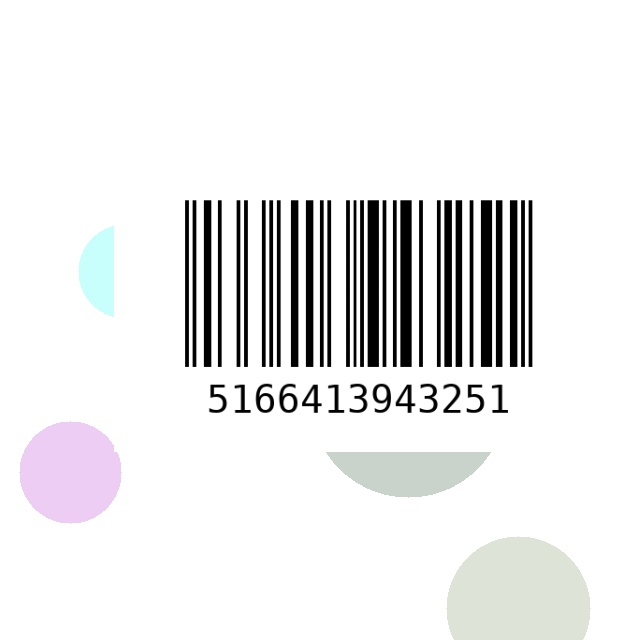barcode: (114, 190, 604, 452)
